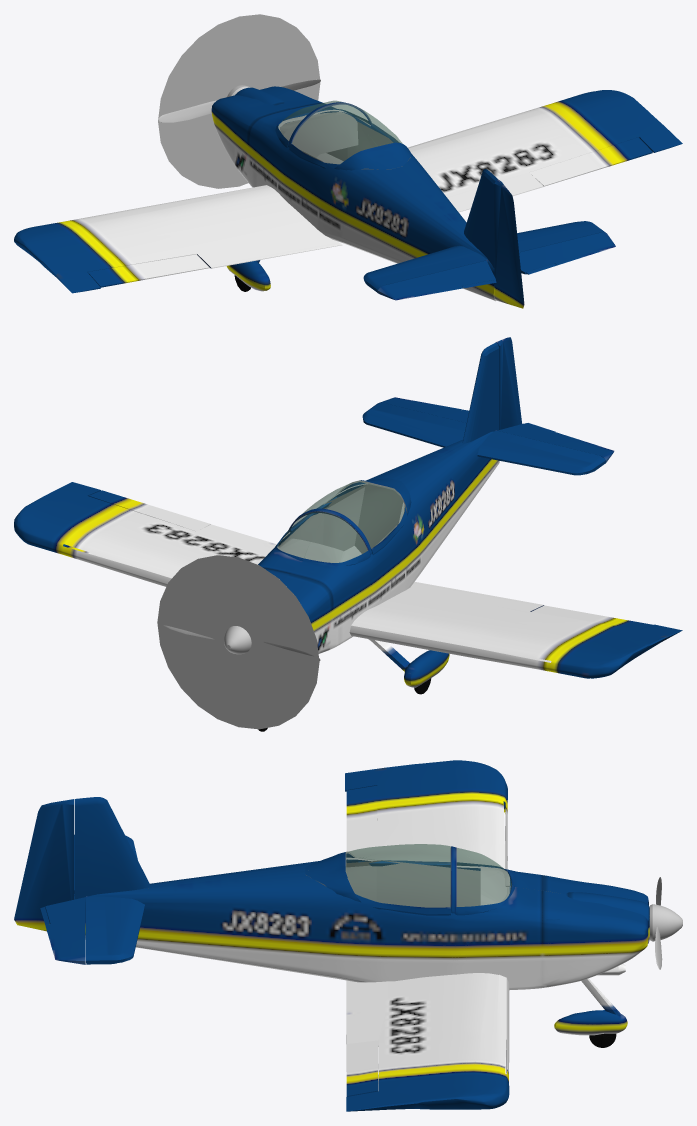
Rendered from rv6a-org.obj.
The picture shows the model from 3 angles, top to bottom: view 1: azimuth 30°, elevation 25°; view 2: azimuth 150°, elevation 25°; view 3: azimuth 270°, elevation 25°; orthographic projection. The views are drawn at different scales.
Visible parts, largest first — view 1: Fuselage.left_Cube.004, Wing.left_Cube.014, Propeller.Fast_Mesh.1168, Wing.right_Cube.019, elevator_Cube.007, Canopy.rear_Sphere.006, Hstab_Cube.006, Cockpit_Cube.016, rudder_Cube.005, Fuselage.right_Cube.002, flap.Left_Cube.012, aileron.Right_Cube.017 (+8 smaller); view 2: Propeller.Fast_Mesh.1168, Wing.left_Cube.014, Fuselage.left_Cube.004, Wing.right_Cube.019, Hstab_Cube.006, Cockpit_Cube.016, Canopy.rear_Sphere.006, Canopy.front_Sphere.004, Vstab.left_Cube.001, elevator_Cube.007, Fuselage.right_Cube.002, rudder_Cube.005 (+7 smaller); view 3: Fuselage.right_Cube.002, Wing.right_Cube.019, Wing.left_Cube.014, Canopy.rear_Sphere.006, Cockpit_Cube.016, Vstab.right_Cube.008, rudder.1_Cube.015, Hstab_Cube.006, Fuselage.left_Cube.004, Canopy.front_Sphere.004, elevator_Cube.007, aileron.Left_Cube.009 (+8 smaller).
Boxes of the visible parts, bbox=[...] form: Fuselage.left_Cube.004: bbox=[211, 95, 497, 300]; Wing.left_Cube.014: bbox=[14, 185, 319, 293]; Propeller.Fast_Mesh.1168: bbox=[158, 14, 320, 188]; Wing.right_Cube.019: bbox=[408, 90, 682, 198]; elevator_Cube.007: bbox=[377, 232, 615, 300]; Canopy.rear_Sphere.006: bbox=[292, 103, 402, 163]; Hstab_Cube.006: bbox=[363, 221, 606, 292]; Cockpit_Cube.016: bbox=[280, 111, 393, 164]; rudder_Cube.005: bbox=[494, 179, 523, 308]; Fuselage.right_Cube.002: bbox=[260, 86, 497, 300]; flap.Left_Cube.012: bbox=[197, 232, 342, 268]; aileron.Right_Cube.017: bbox=[529, 137, 652, 186]; Propeller.Fast_Mesh.1168: bbox=[157, 555, 319, 729]; Wing.left_Cube.014: bbox=[349, 589, 682, 678]; Fuselage.left_Cube.004: bbox=[282, 431, 499, 653]; Wing.right_Cube.019: bbox=[14, 482, 268, 586]; Hstab_Cube.006: bbox=[362, 402, 605, 475]; Cockpit_Cube.016: bbox=[278, 484, 404, 562]; Canopy.rear_Sphere.006: bbox=[292, 480, 404, 548]; Canopy.front_Sphere.004: bbox=[277, 511, 367, 562]; Vstab.left_Cube.001: bbox=[462, 342, 499, 443]; elevator_Cube.007: bbox=[379, 397, 614, 463]; Fuselage.right_Cube.002: bbox=[258, 440, 464, 581]; rudder_Cube.005: bbox=[496, 337, 521, 461]; Fuselage.right_Cube.002: bbox=[74, 870, 648, 990]; Wing.right_Cube.019: bbox=[346, 973, 509, 1111]; Wing.left_Cube.014: bbox=[345, 760, 507, 869]; Canopy.rear_Sphere.006: bbox=[346, 844, 450, 907]; Cockpit_Cube.016: bbox=[346, 860, 506, 907]; Vstab.right_Cube.008: bbox=[74, 797, 150, 899]; rudder.1_Cube.015: bbox=[15, 799, 73, 931]; Hstab_Cube.006: bbox=[86, 835, 144, 964]; Fuselage.left_Cube.004: bbox=[74, 857, 648, 904]; Canopy.front_Sphere.004: bbox=[456, 848, 511, 906]; elevator_Cube.007: bbox=[45, 834, 85, 964]; aileron.Left_Cube.009: bbox=[346, 785, 377, 857].
Bounding box in the file's own units: 7.5 × 2.59 × 6.26.
